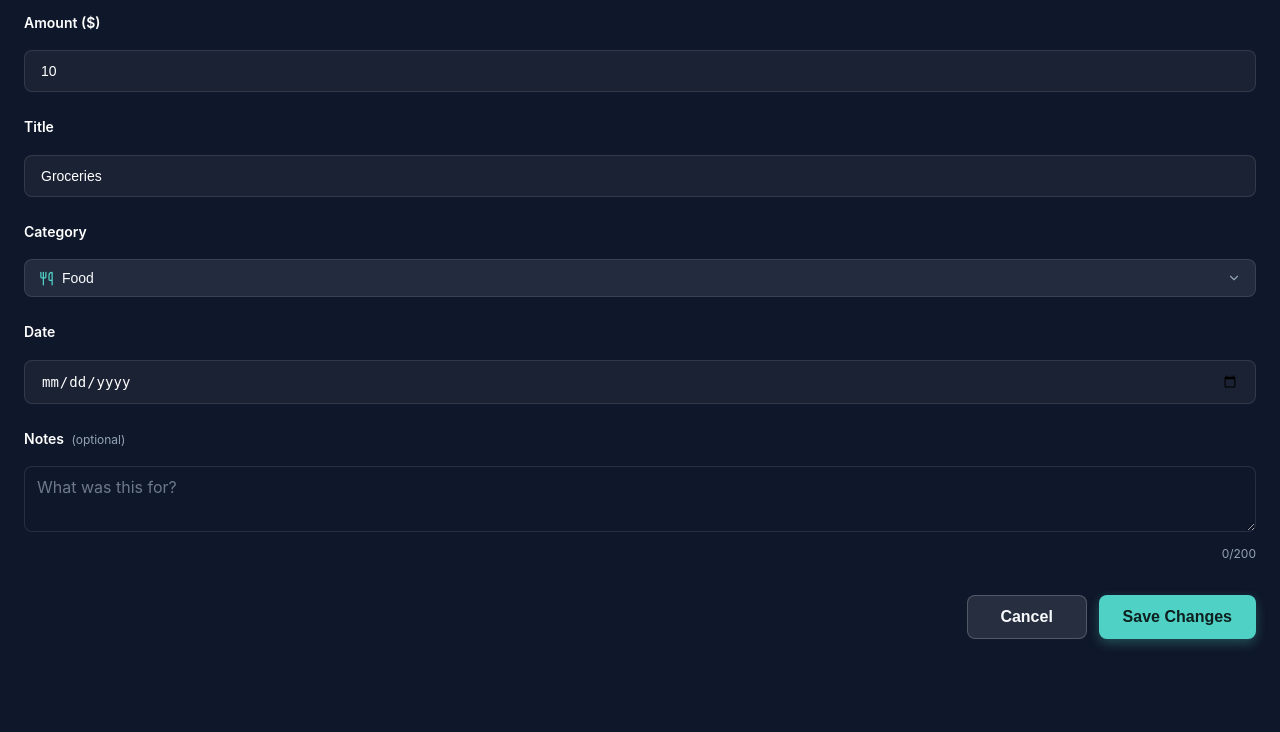
Scenario: ExpenseForm component › shows validation errors when date is missing or in the future
Click the button "Save Changes" at coordinates (1177, 617), box [1099,595,1256,639]
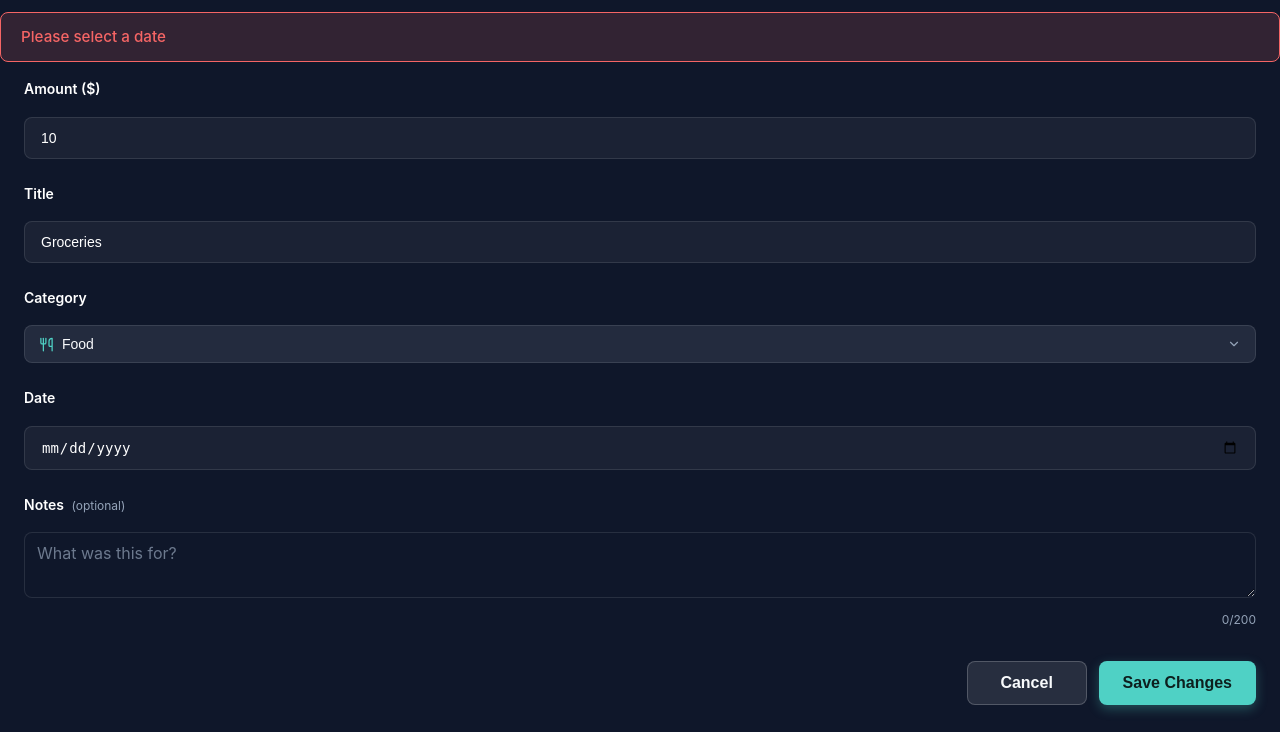
Check: the text "Please select a date" is shown, box [0,12,1279,62]
Type "2030-01-01" into the date field labelled "Date" at coordinates (640, 448), box [24,426,1256,470]
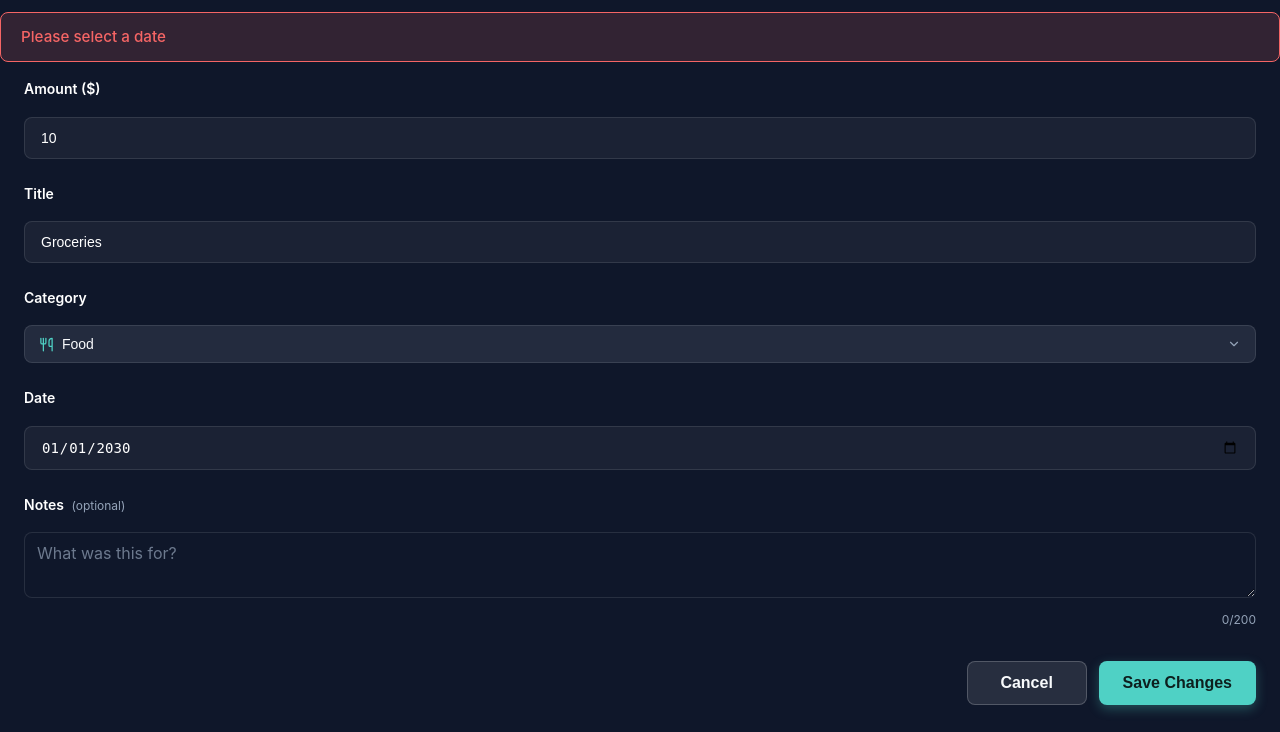
Click the button "Save Changes" at coordinates (1177, 684), box [1099,662,1256,706]
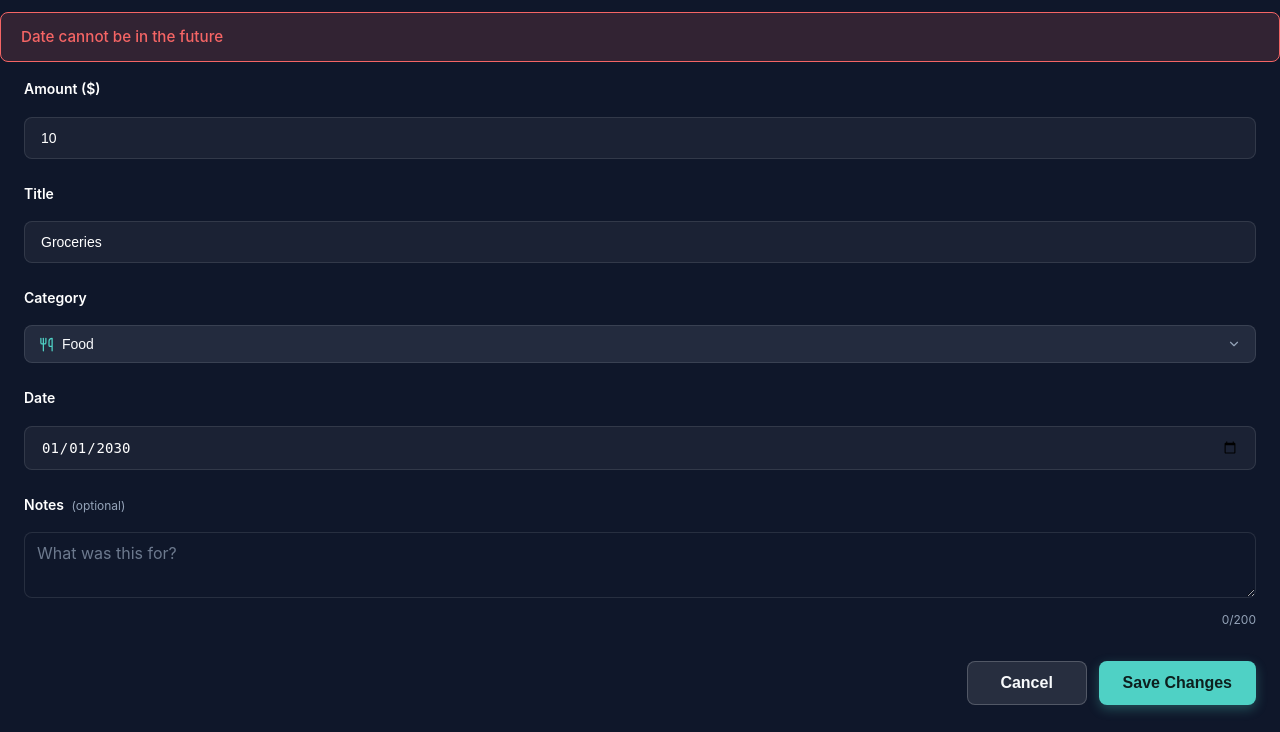
Check: the text "Date cannot be in the future" is shown, box [0,12,1279,62]
